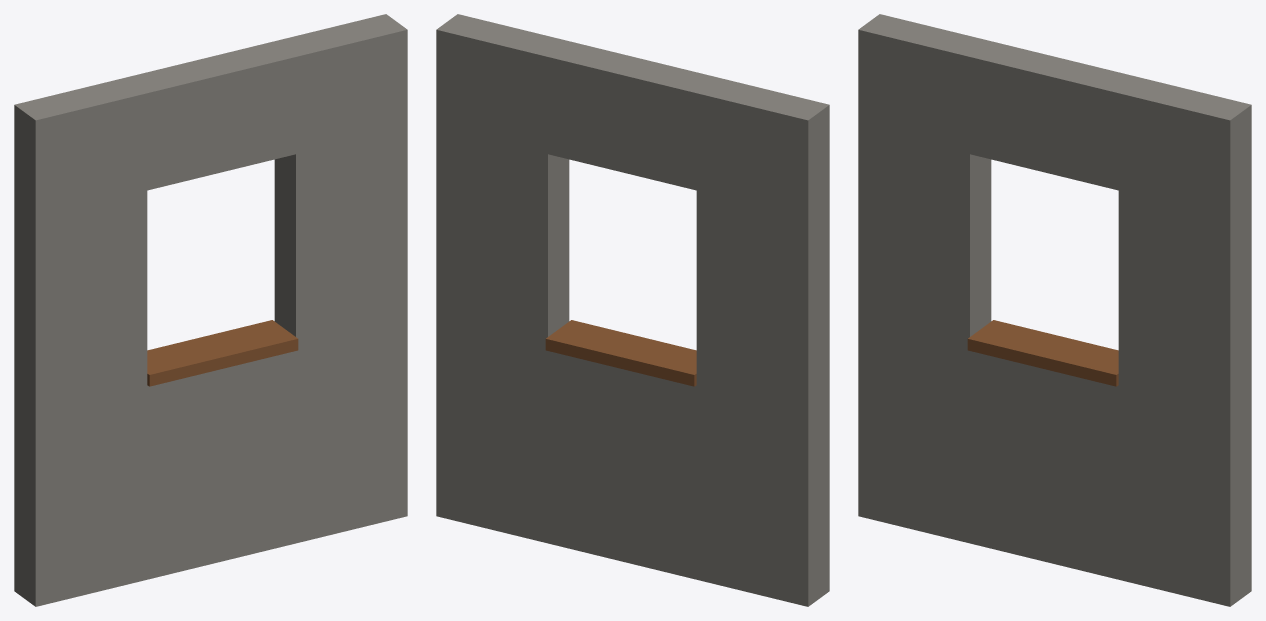
The model's file is window-wall.glb.
3 views of the same model, side by side, from view 1: azimuth 30°, elevation 25°; view 2: azimuth 150°, elevation 25°; view 3: azimuth 330°, elevation 25° (orthographic).
Visible parts, largest first — view 1: window-wall; view 2: window-wall; view 3: window-wall.
Part boxes in pixels (x1,y1,x2,y2): window-wall: (14,14,407,606); window-wall: (436,14,829,606); window-wall: (858,14,1251,606).
Bounding box in the file's own units: 2 × 2.5 × 0.24.
